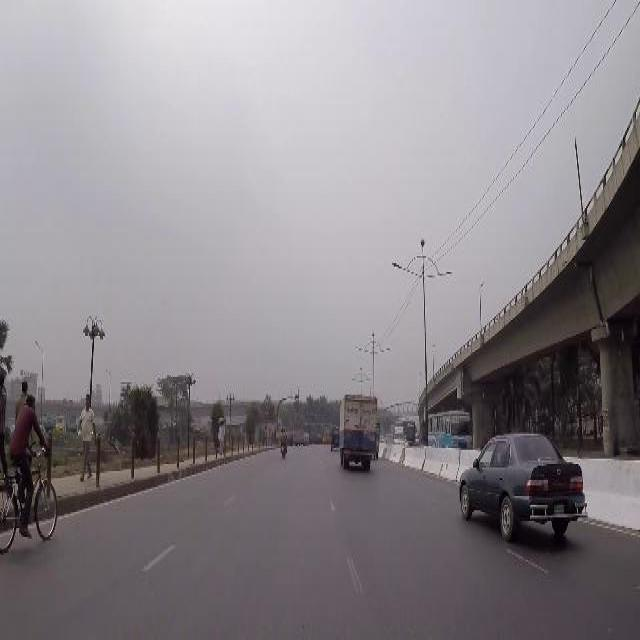bike: (1, 391, 59, 557), (280, 426, 289, 458)
vehicle: (460, 430, 588, 539), (341, 395, 380, 468), (428, 412, 472, 447), (293, 421, 310, 446), (402, 418, 417, 444), (394, 424, 406, 446), (331, 426, 340, 451), (323, 422, 331, 444)
